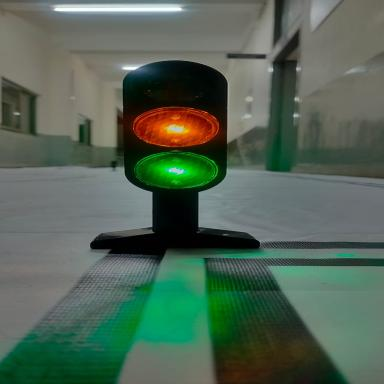green: (123, 154, 247, 194)
yellow: (124, 100, 231, 148)
